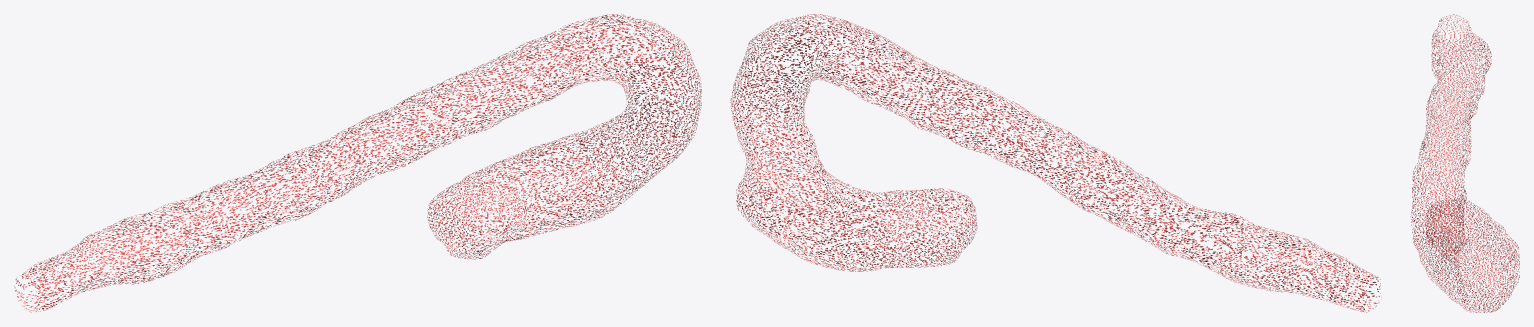
File: aorta.glb
The picture shows the model from 3 angles, left to right: view 1: azimuth 30°, elevation 25°; view 2: azimuth 150°, elevation 25°; view 3: azimuth 270°, elevation 25°; orthographic projection. The views are drawn at different scales.
Size of the model in its own units: 275 by 88.72 by 49.54.
